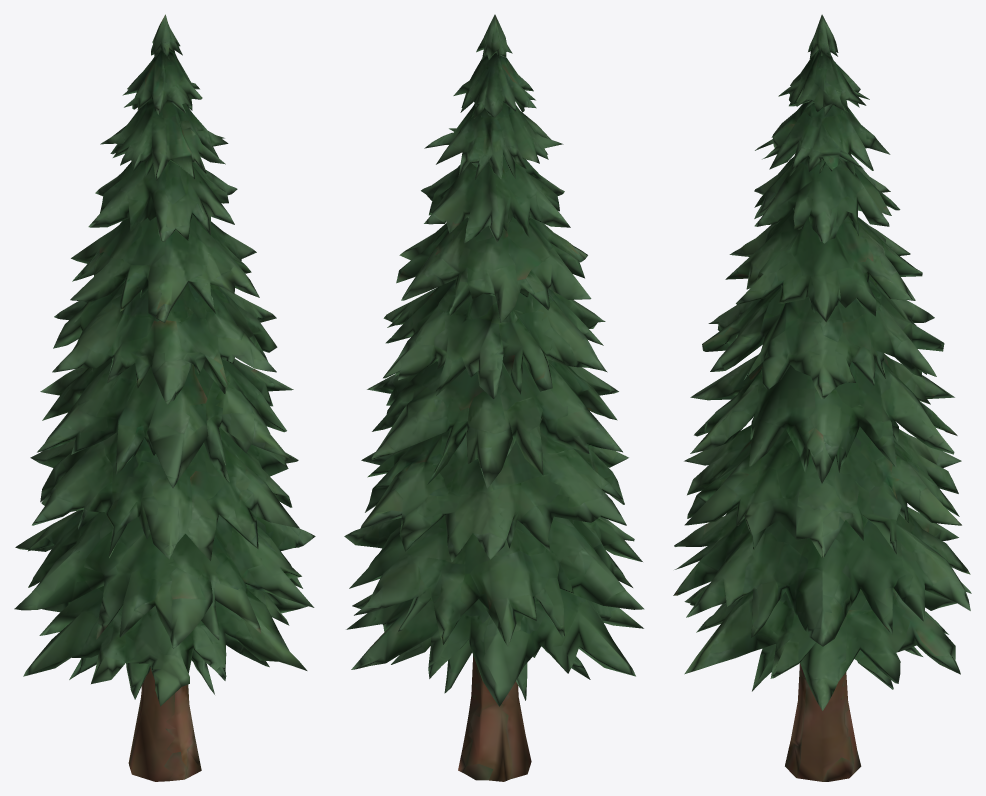
The model's file is arbolito.glb.
The picture shows the model from 3 angles, left to right: view 1: azimuth 30°, elevation 25°; view 2: azimuth 150°, elevation 25°; view 3: azimuth 270°, elevation 25°; orthographic projection.
Size of the model in its own units: 0.7962 by 1.9 by 0.6839.
Materials: 1 (1 with a texture image).
